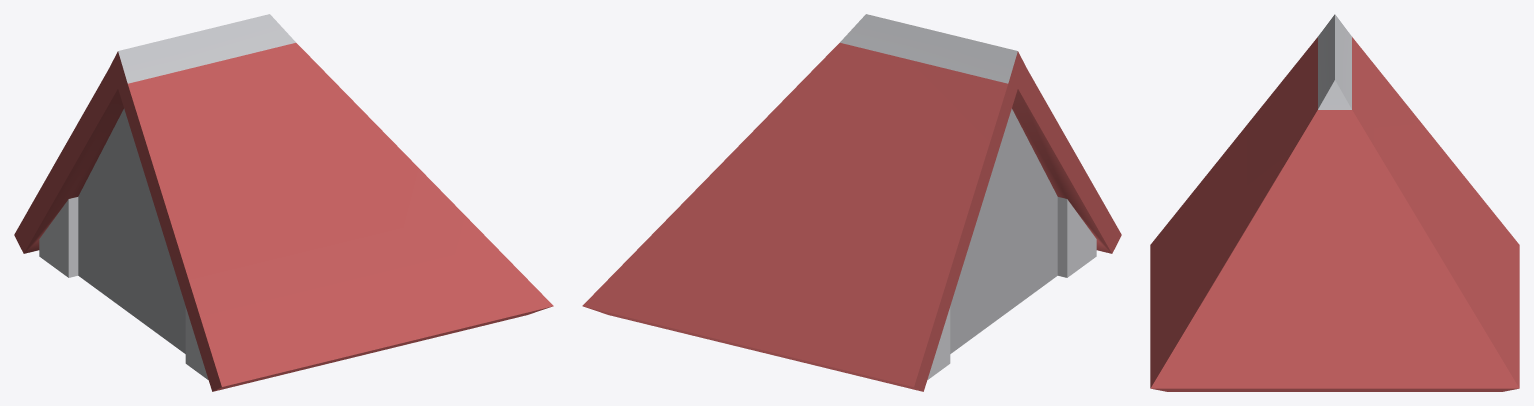
File: Roof_Straight_End_Red_01.obj
The picture shows the model from 3 angles, left to right: view 1: azimuth 30°, elevation 25°; view 2: azimuth 150°, elevation 25°; view 3: azimuth 270°, elevation 25°; orthographic projection. The views are drawn at different scales.
Parts seen in each view (by area): view 1: Mesh1_Roof_Straight_Red_Model; view 2: Mesh1_Roof_Straight_Red_Model; view 3: Mesh1_Roof_Straight_Red_Model.
Part boxes in pixels (x1=…): Mesh1_Roof_Straight_Red_Model: x1=14, y1=14, x2=553, y2=391; Mesh1_Roof_Straight_Red_Model: x1=582, y1=14, x2=1121, y2=391; Mesh1_Roof_Straight_Red_Model: x1=1150, y1=14, x2=1519, y2=391.
Size of the model in its own units: 3.28 by 2.57 by 3.56.
